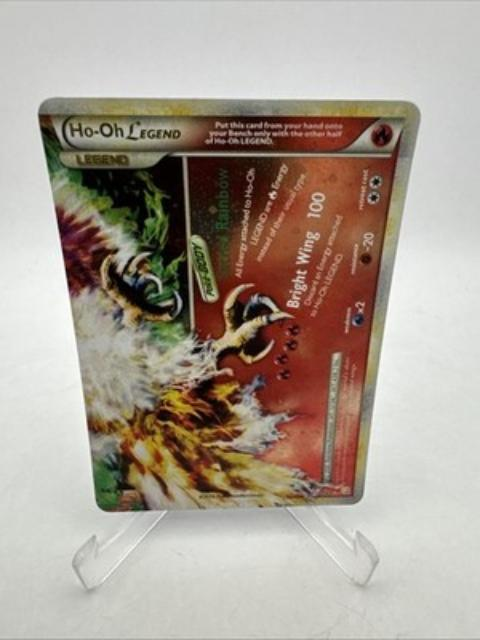Card: (34, 94, 425, 514)
Name: (61, 117, 186, 147)
